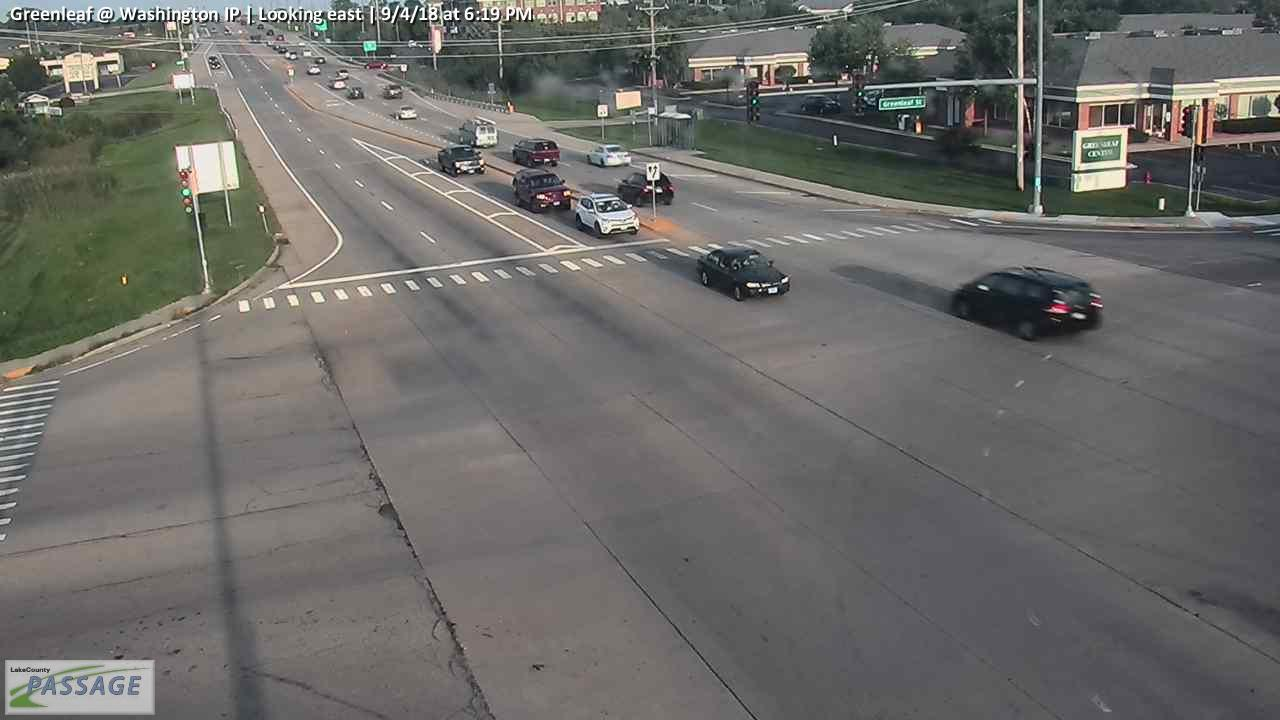SUV: (950, 266, 1103, 341), (574, 192, 640, 235), (512, 139, 561, 166), (460, 118, 497, 147)
Sedan: (697, 247, 791, 301), (508, 169, 571, 212), (617, 171, 673, 207), (436, 147, 486, 174), (586, 144, 632, 166), (799, 93, 840, 114), (393, 105, 418, 120), (381, 83, 403, 97), (364, 61, 387, 70), (347, 85, 362, 98), (208, 56, 221, 69), (329, 78, 344, 87), (307, 64, 320, 73), (335, 68, 348, 77), (314, 57, 323, 63)
